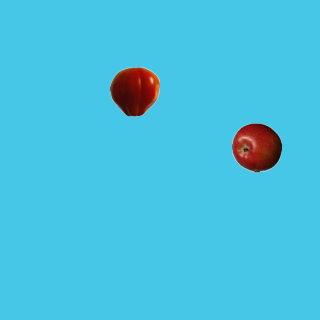Apple Braeburn: (231, 122, 281, 172)
Tomato 1: (109, 66, 159, 116)
